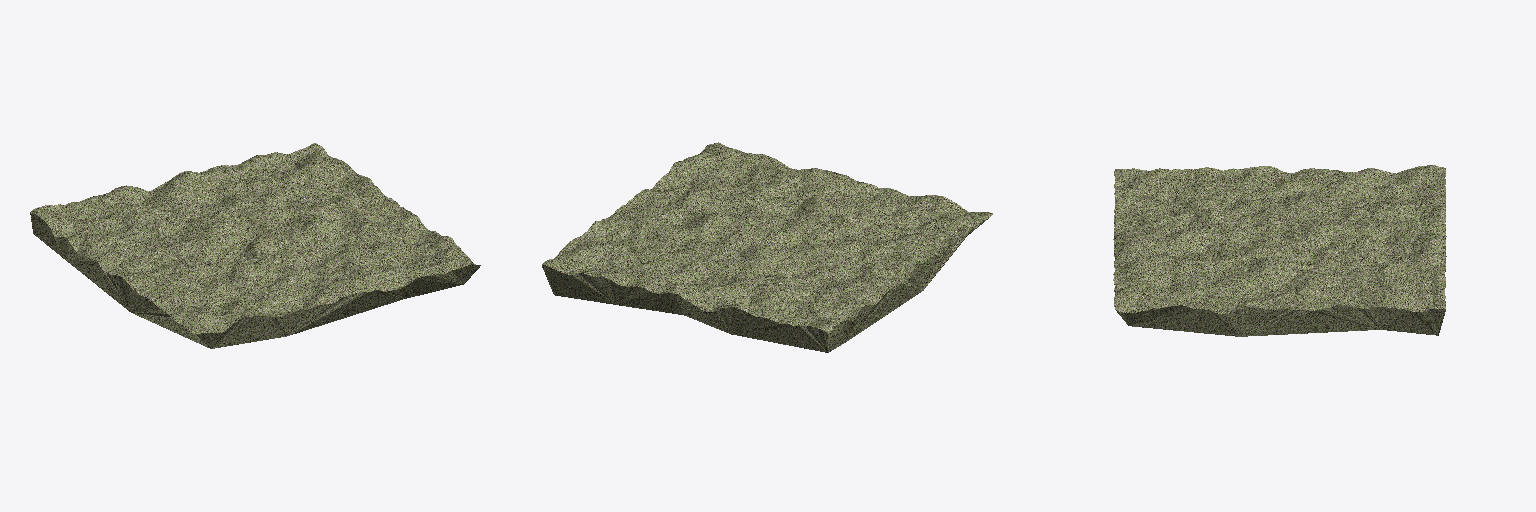
3 renders of one model, left to right at view 1: azimuth 30°, elevation 25°; view 2: azimuth 150°, elevation 25°; view 3: azimuth 270°, elevation 25°, orthographic.
Parts seen in each view (by area): view 1: Plane; view 2: Plane; view 3: Plane.
Boxes of the visible parts, x1=… form: Plane: x1=30, y1=143, x2=480, y2=348; Plane: x1=542, y1=142, x2=992, y2=352; Plane: x1=1113, y1=165, x2=1446, y2=336.
Bounding box in the file's own units: 200 × 35.53 × 199.
1 materials, 1 textured.